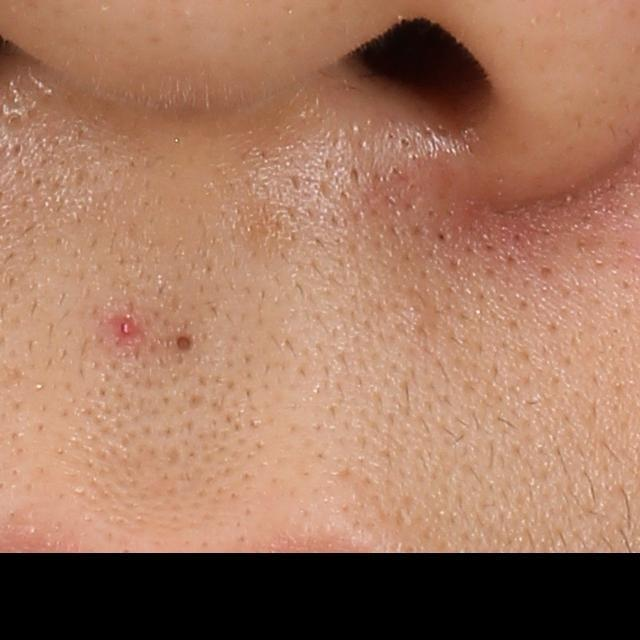comedo: (172, 331, 197, 356), (3, 111, 26, 131)
papule: (112, 315, 139, 343)
